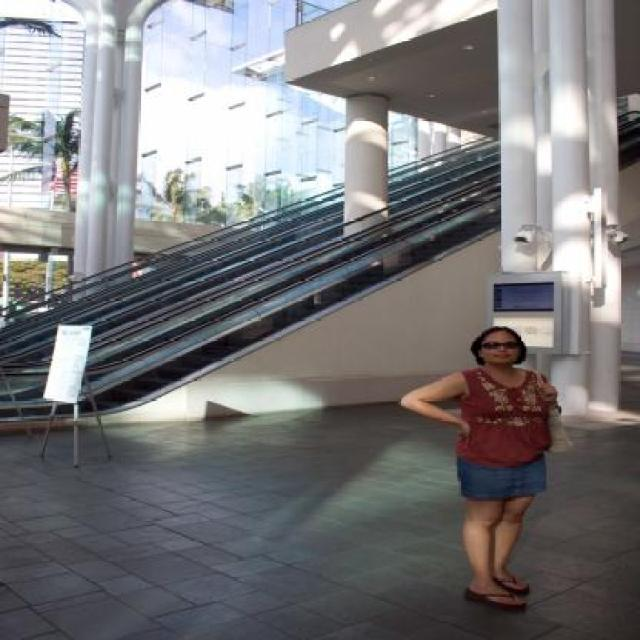stair: (82, 206, 500, 411)
